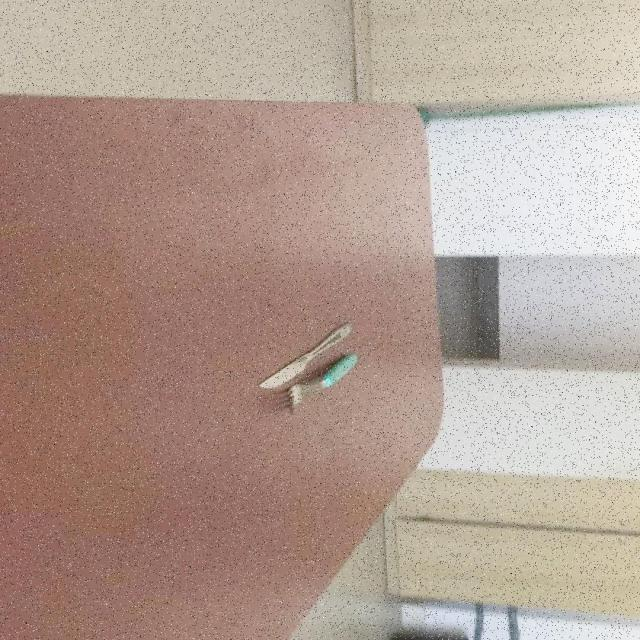Fork: (281, 352, 358, 415)
Knife: (255, 322, 352, 390)
